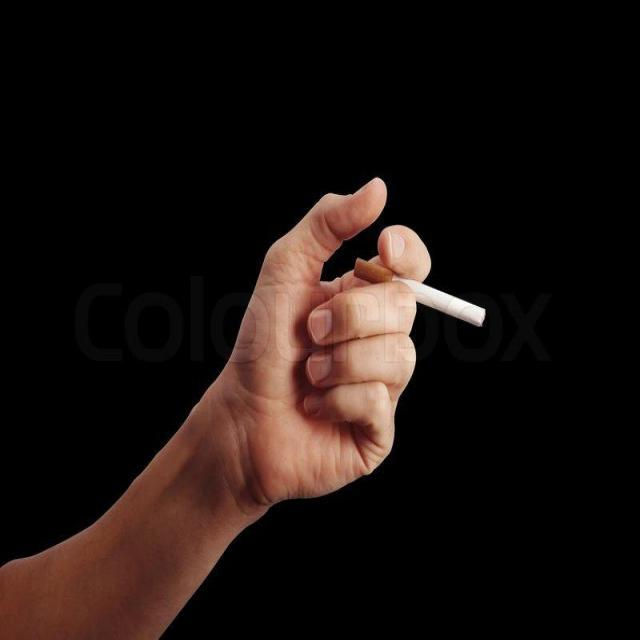cigarette: (346, 254, 491, 328)
